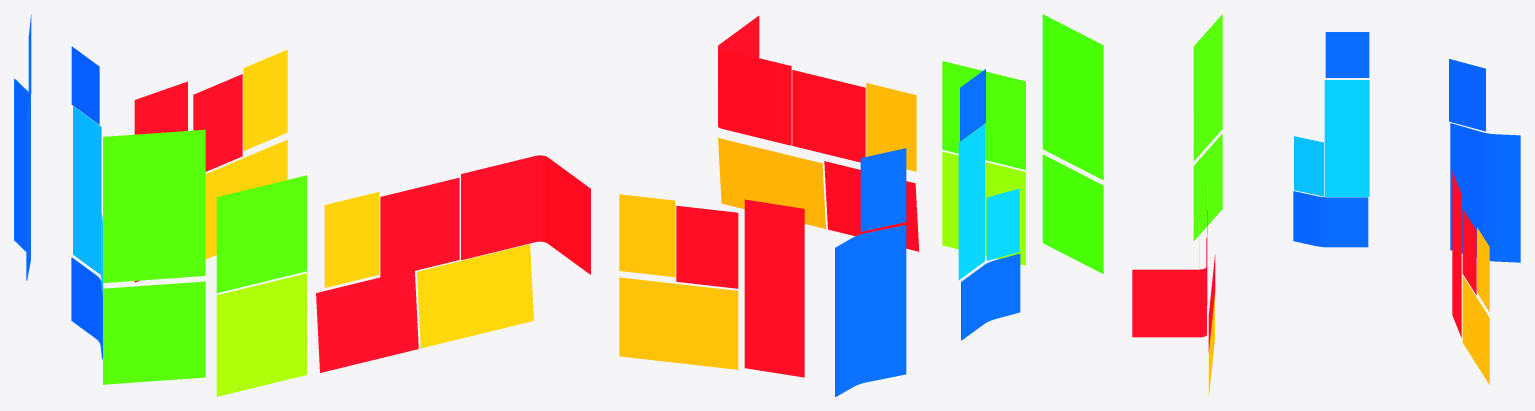
File: Screens.glb
3 views of the same model, side by side, from view 1: azimuth 30°, elevation 25°; view 2: azimuth 150°, elevation 25°; view 3: azimuth 270°, elevation 25° (orthographic). The views are drawn at different scales.
Parts seen in each view (by area): view 1: Screen.008, Screen, Screen.007, Screen.006, Screen.003, Screen.005, Screen.004, Screen.001, Screen.002, Screen.009, Screen.017, Screen.016 (+5 smaller); view 2: Screen.013, Screen.015, Screen.018, Screen.008, Screen, Screen.003, Screen.001, Screen.007, Screen.005, Screen.016, Screen.017, Screen.009 (+7 smaller); view 3: Screen.013, Screen.009, Screen, Screen.012, Screen.008, Screen.014, Screen.007, Screen.010, Screen.018, Screen.011, Screen.015, Screen.016 (+3 smaller).
Part boxes in pixels (left/top/right/bottom): Screen.008: left=103, top=129, right=205, bottom=282; Screen: left=461, top=155, right=590, bottom=274; Screen.007: left=103, top=281, right=205, bottom=384; Screen.006: left=216, top=273, right=306, bottom=396; Screen.003: left=417, top=244, right=533, bottom=348; Screen.005: left=216, top=175, right=306, bottom=292; Screen.004: left=316, top=271, right=418, bottom=372; Screen.001: left=380, top=177, right=459, bottom=279; Screen.002: left=324, top=192, right=379, bottom=287; Screen.009: left=73, top=106, right=101, bottom=274; Screen.017: left=243, top=49, right=287, bottom=150; Screen.016: left=193, top=74, right=242, bottom=171; Screen.013: left=835, top=225, right=906, bottom=396; Screen.015: left=744, top=199, right=804, bottom=377; Screen.018: left=619, top=277, right=738, bottom=369; Screen.008: left=1042, top=14, right=1103, bottom=180; Screen: left=718, top=16, right=791, bottom=145; Screen.003: left=718, top=138, right=825, bottom=228; Screen.001: left=792, top=70, right=865, bottom=162; Screen.007: left=1042, top=154, right=1103, bottom=273; Screen.005: left=942, top=61, right=1025, bottom=169; Screen.016: left=676, top=205, right=738, bottom=288; Screen.017: left=619, top=194, right=675, bottom=277; Screen.009: left=958, top=124, right=984, bottom=279; Screen.013: left=1450, top=123, right=1520, bottom=262; Screen.009: left=1324, top=80, right=1369, bottom=196; Screen: left=1132, top=238, right=1206, bottom=337; Screen.012: left=1293, top=191, right=1368, bottom=247; Screen.008: left=1193, top=14, right=1222, bottom=160; Screen.014: left=1449, top=59, right=1485, bottom=131; Screen.007: left=1193, top=133, right=1222, bottom=240; Screen.010: left=1325, top=32, right=1369, bottom=77; Screen.018: left=1462, top=275, right=1489, bottom=384; Screen.011: left=1294, top=136, right=1323, bottom=196; Screen.015: left=1452, top=172, right=1461, bottom=337; Screen.016: left=1462, top=209, right=1476, bottom=294.
Size of the model in its own units: 113 by 77.06 by 113.
